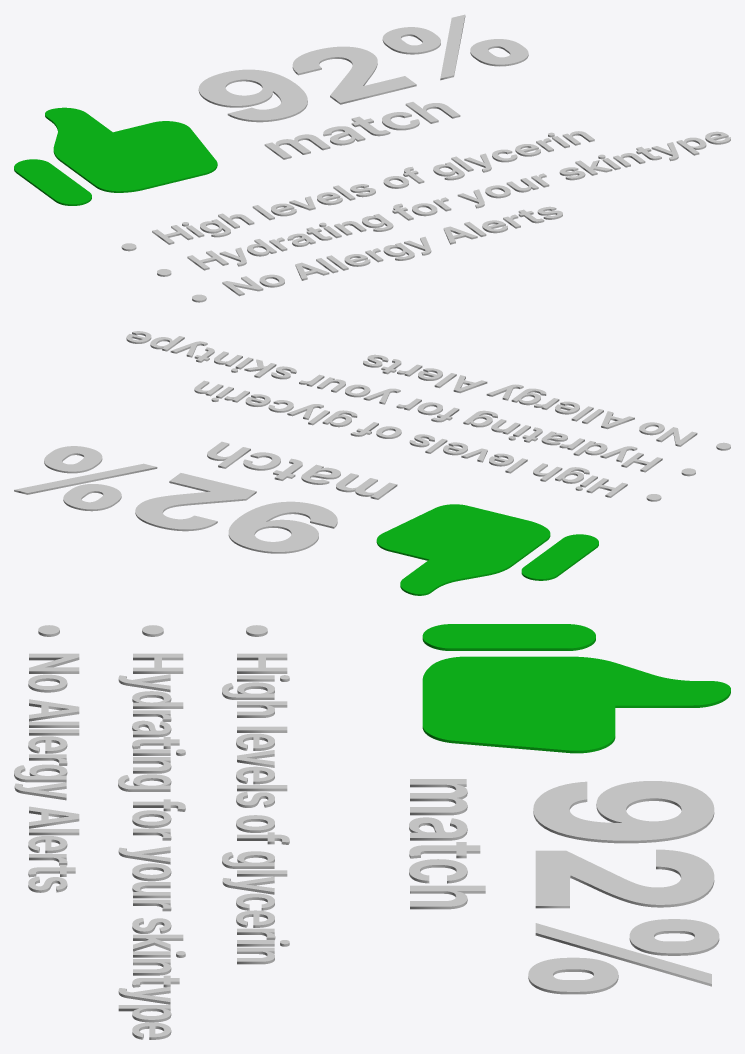
Rendered from goodCard.obj.
The picture shows the model from 3 angles, top to bottom: view 1: azimuth 30°, elevation 25°; view 2: azimuth 150°, elevation 25°; view 3: azimuth 270°, elevation 25°; orthographic projection. The views are drawn at different scales.
Parts seen in each view (by area): view 1: Curve.003_Curve.010, Curve.001_Curve.008, Curve.002_Curve.009, Curve_Curve.007; view 2: Curve.003_Curve.010, Curve.001_Curve.008, Curve.002_Curve.009, Curve_Curve.007; view 3: Curve.003_Curve.010, Curve.001_Curve.008, Curve.002_Curve.009, Curve_Curve.007.
Part boxes in pixels (x1,y1,x2,y2): Curve.003_Curve.010: [121, 131, 730, 302]; Curve.001_Curve.008: [14, 107, 217, 205]; Curve.002_Curve.009: [198, 14, 528, 122]; Curve_Curve.007: [264, 102, 460, 159]; Curve.003_Curve.010: [126, 331, 730, 501]; Curve.001_Curve.008: [376, 504, 598, 595]; Curve.002_Curve.009: [14, 446, 337, 553]; Curve_Curve.007: [207, 441, 397, 499]; Curve.003_Curve.010: [14, 625, 289, 1039]; Curve.001_Curve.008: [422, 624, 730, 753]; Curve.002_Curve.009: [528, 781, 719, 994]; Curve_Curve.007: [409, 779, 485, 909].
Bounding box in the file's own units: 1.35 × 0.004 × 0.989.
